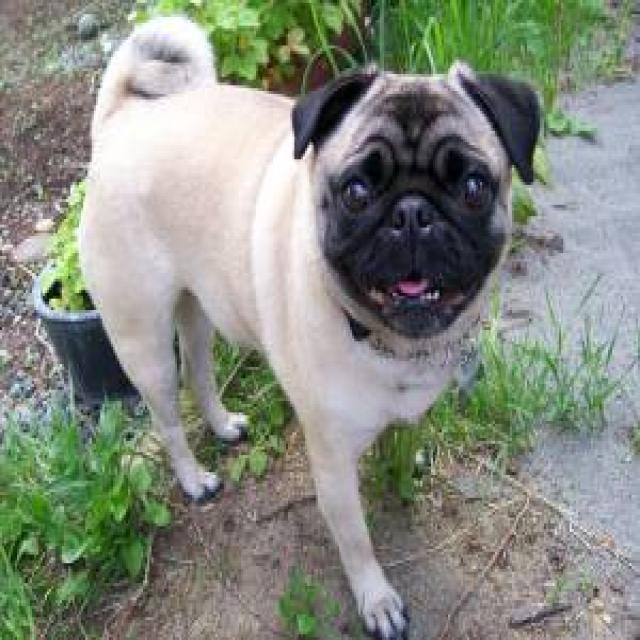dog-pug: (73, 11, 544, 634)
